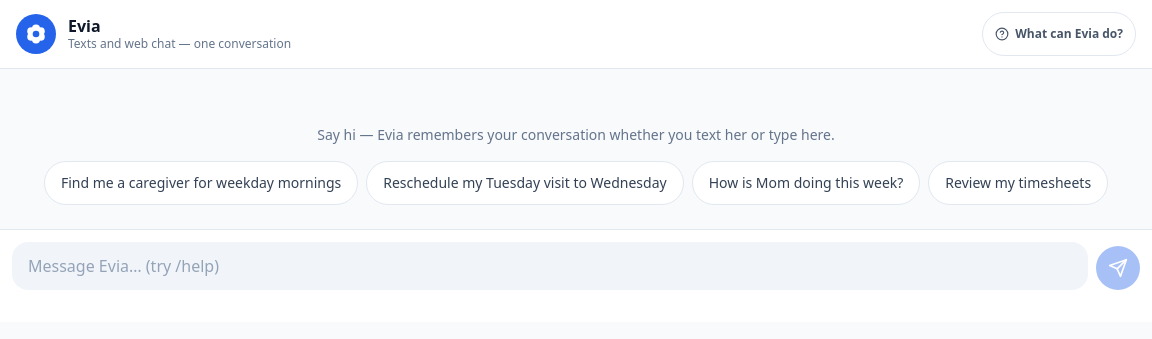
Test case: CaraChat › rateLimited removes the optimistic bubble, shows a notice, and restores the draft
Type "spam" into the text box labelled "Message Evia" at (550, 266), box [12, 242, 1088, 290]
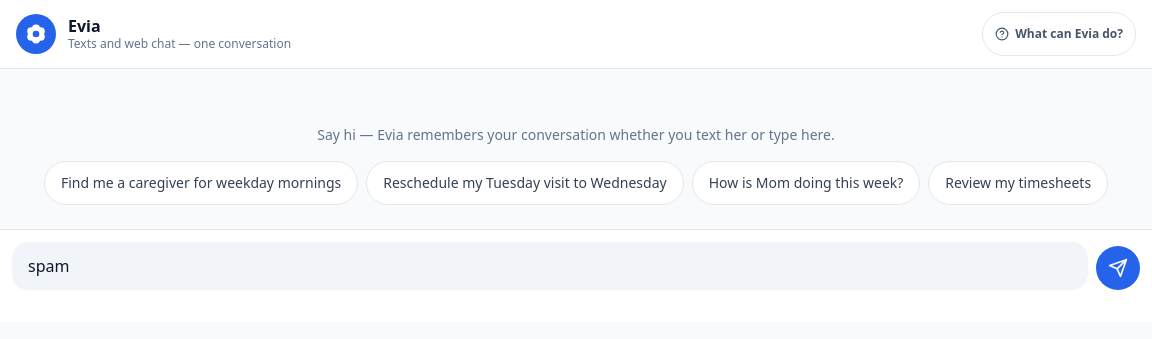
Click the button named "Send message" at (1118, 268), box [1096, 246, 1140, 290]
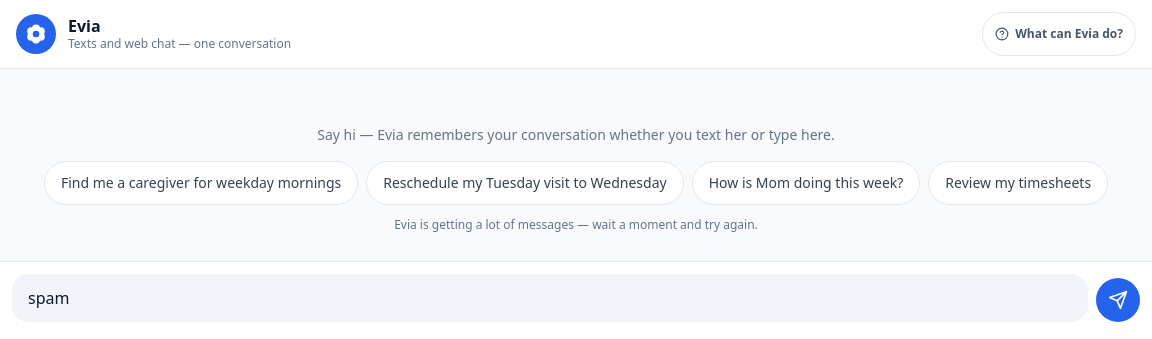
Expected: the text "spam" is not shown
Result: the text "wait a moment" is shown at [394, 216, 758, 233]
